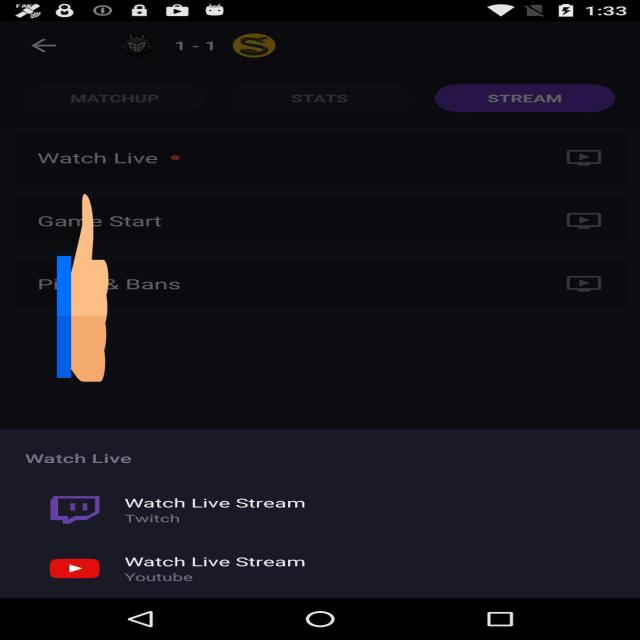privacy zuckering: (57, 190, 108, 386)
